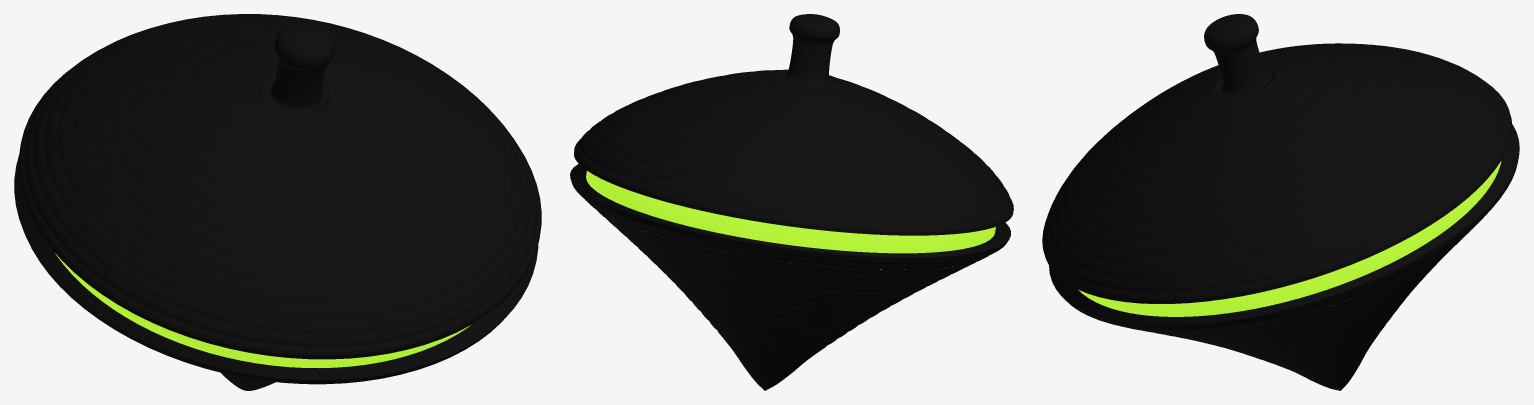
The picture shows the model from 3 angles, left to right: view 1: azimuth 30°, elevation 25°; view 2: azimuth 150°, elevation 25°; view 3: azimuth 270°, elevation 25°; orthographic projection. The views are drawn at different scales.
Visible parts, largest first — view 1: koma_upper, koma_lower, koma_light; view 2: koma_upper, koma_lower, koma_light; view 3: koma_upper, koma_lower, koma_light.
Boxes of the visible parts, left/top/right/bottom form: koma_upper: left=18, top=14, right=541, bottom=359; koma_lower: left=14, top=155, right=538, bottom=390; koma_light: left=55, top=253, right=470, bottom=368; koma_upper: left=574, top=14, right=1013, bottom=235; koma_lower: left=570, top=164, right=1010, bottom=390; koma_light: left=586, top=171, right=995, bottom=269; koma_upper: left=1042, top=14, right=1512, bottom=303; koma_lower: left=1049, top=124, right=1519, bottom=390; koma_light: left=1078, top=161, right=1501, bottom=332.
Size of the model in its own units: 1.52 by 1.28 by 1.49.
